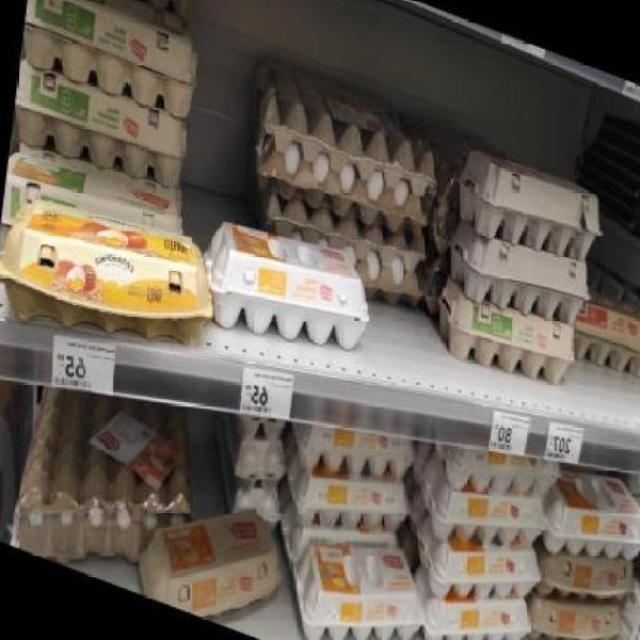Egg: (0, 170, 217, 388), (201, 203, 375, 378), (12, 54, 194, 204), (19, 0, 206, 128), (138, 478, 285, 640), (289, 509, 430, 640), (433, 275, 576, 399), (417, 458, 547, 572), (412, 512, 541, 626), (285, 443, 414, 557), (46, 0, 212, 28), (229, 471, 284, 532), (235, 427, 289, 487)
